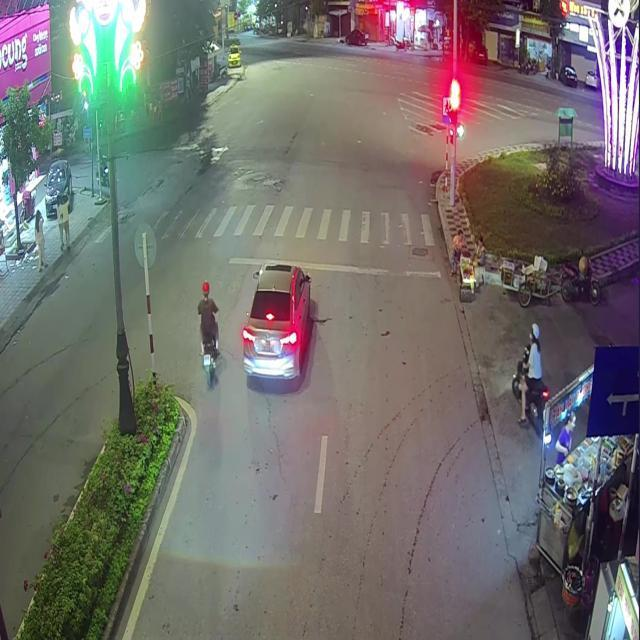car: (243, 262, 311, 380)
motobike: (511, 343, 549, 439), (197, 303, 218, 388)
red_light: (450, 92, 457, 125)
stop_line: (226, 256, 440, 277)
